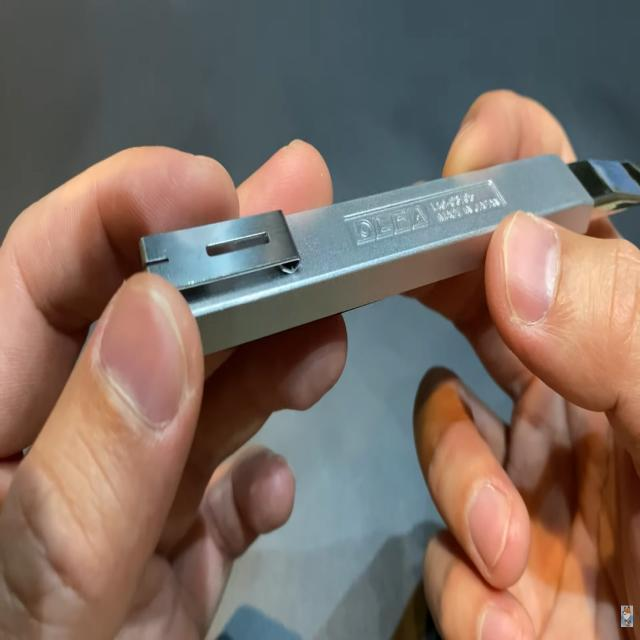cutter: (48, 113, 640, 602)
